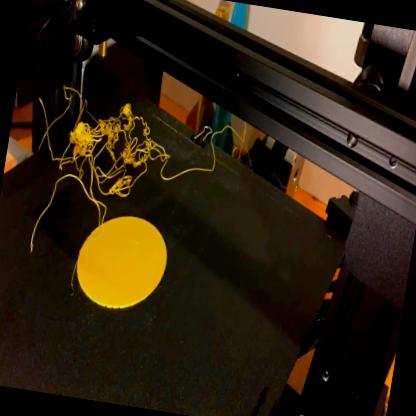fail: (31, 87, 178, 220)
